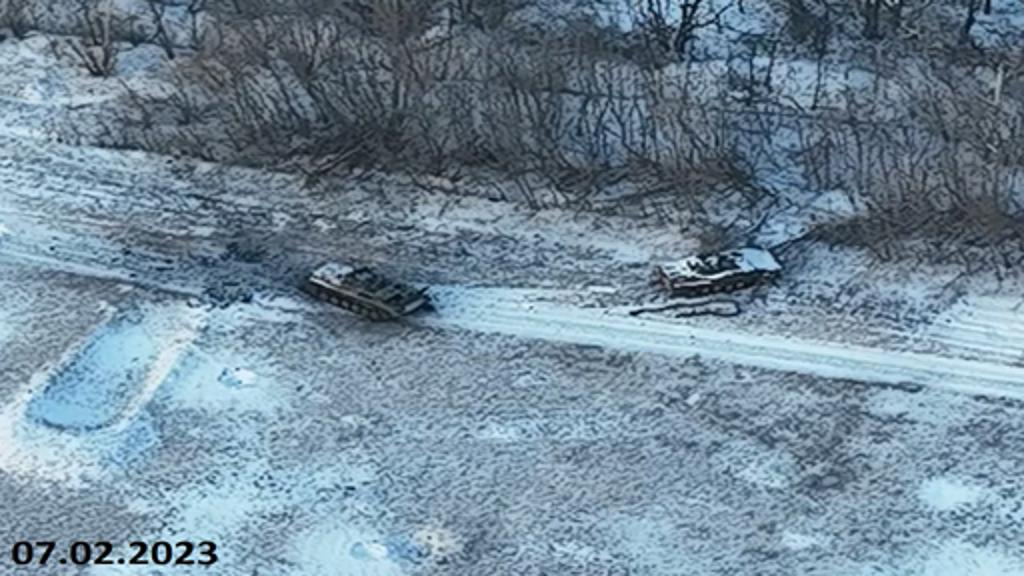APC-IFV: (300, 252, 438, 324), (646, 240, 782, 296)
